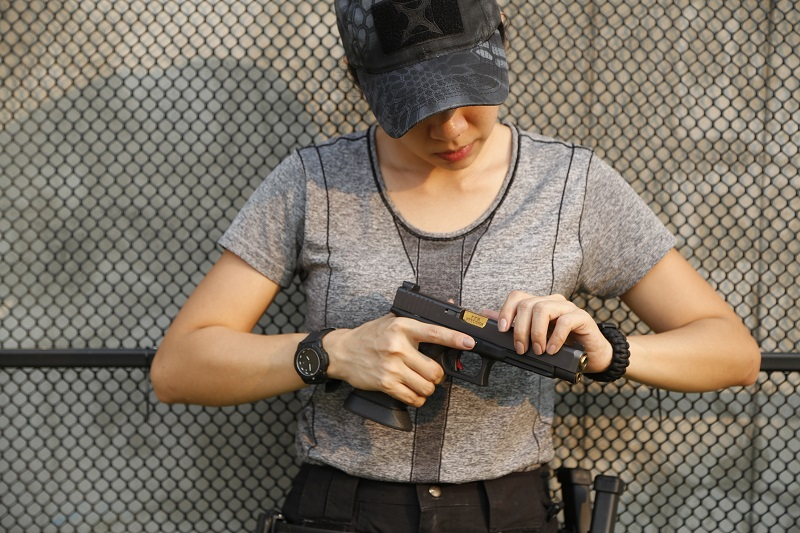gun: (341, 279, 591, 432)
